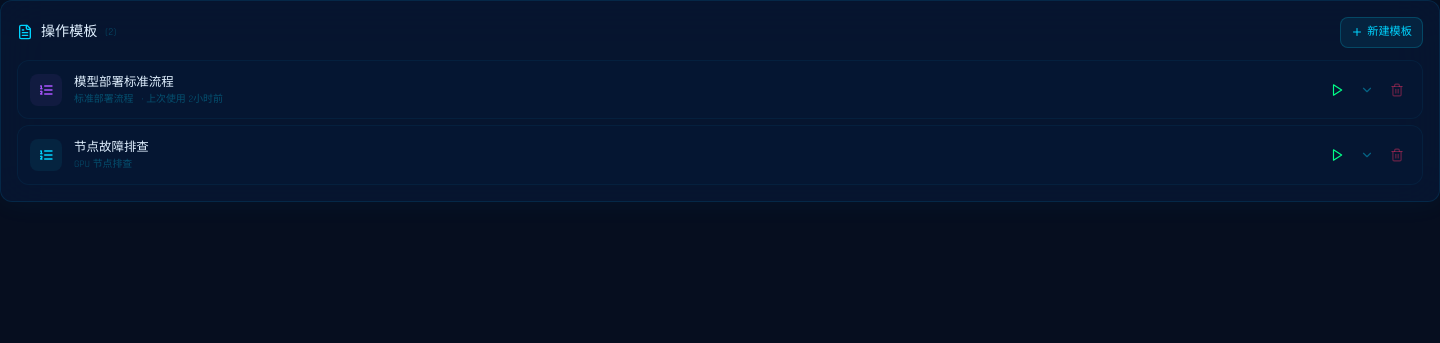
Test: OperationTemplate › 展开/折叠 › 再次点击展开按钮应折叠步骤明细
The image size is (1440, 343).
Click the button without text in the row of "2小时前" at (1367, 90), box [1354, 77, 1380, 103]
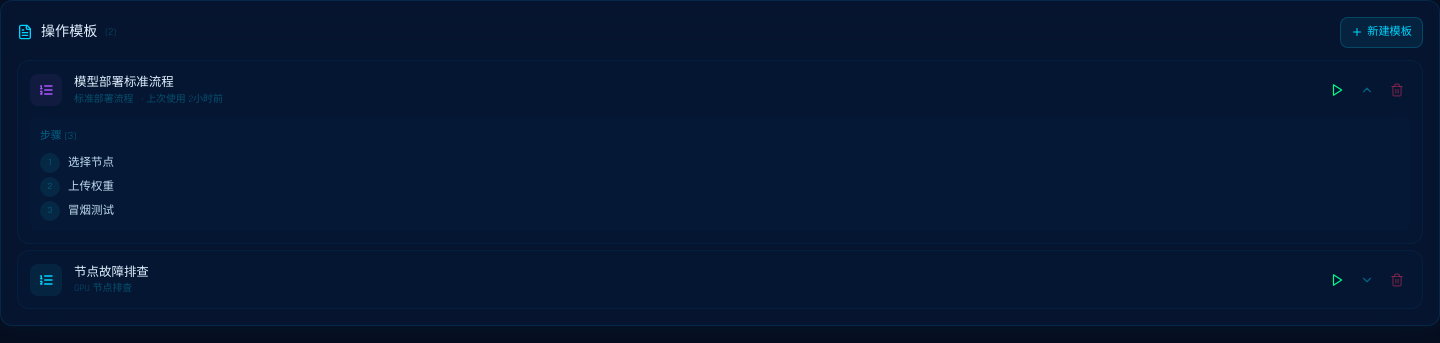
expect the text "步骤 (3)" is shown: met, box [40, 129, 76, 143]
Click the button without text in the row of "2小时前" at (1367, 90), box [1354, 77, 1380, 103]
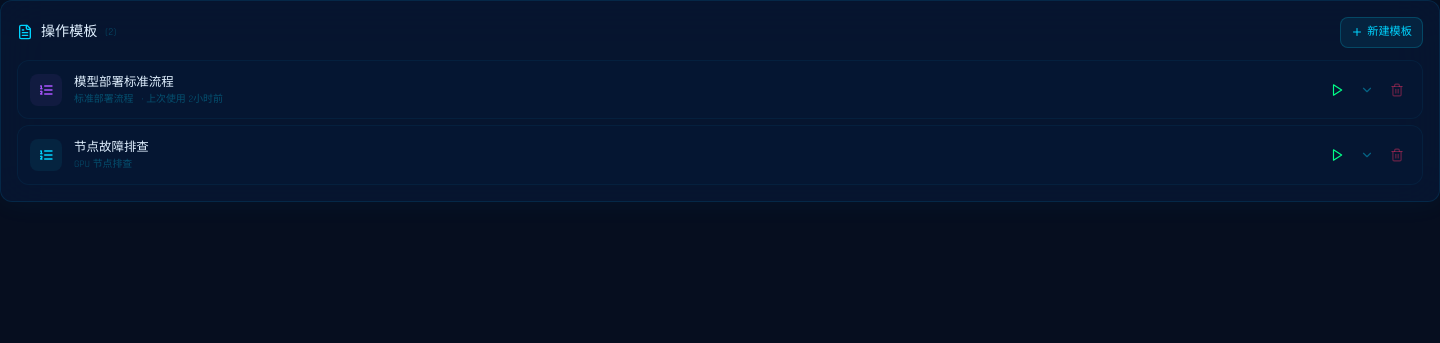
expect the text "步骤 (3)" is gone: met
